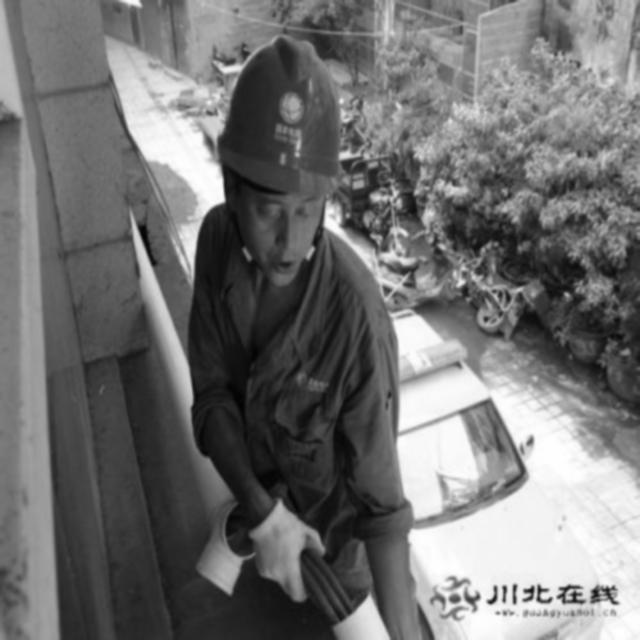head: (198, 17, 356, 292)
